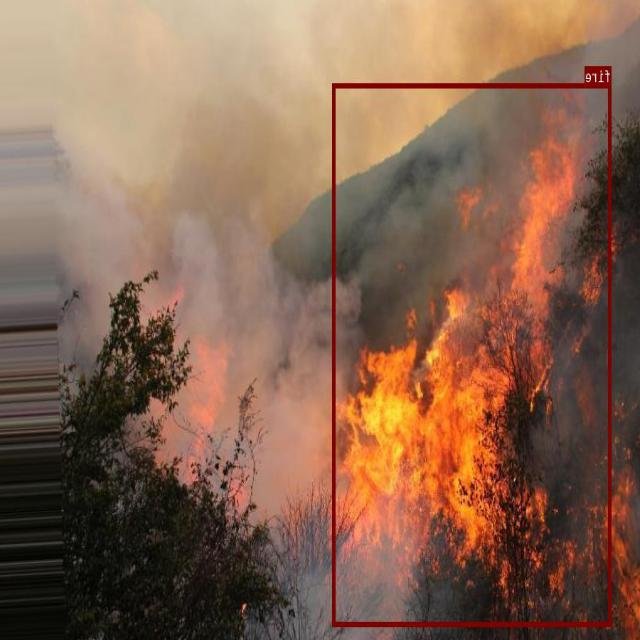fire: (333, 82, 612, 626)
